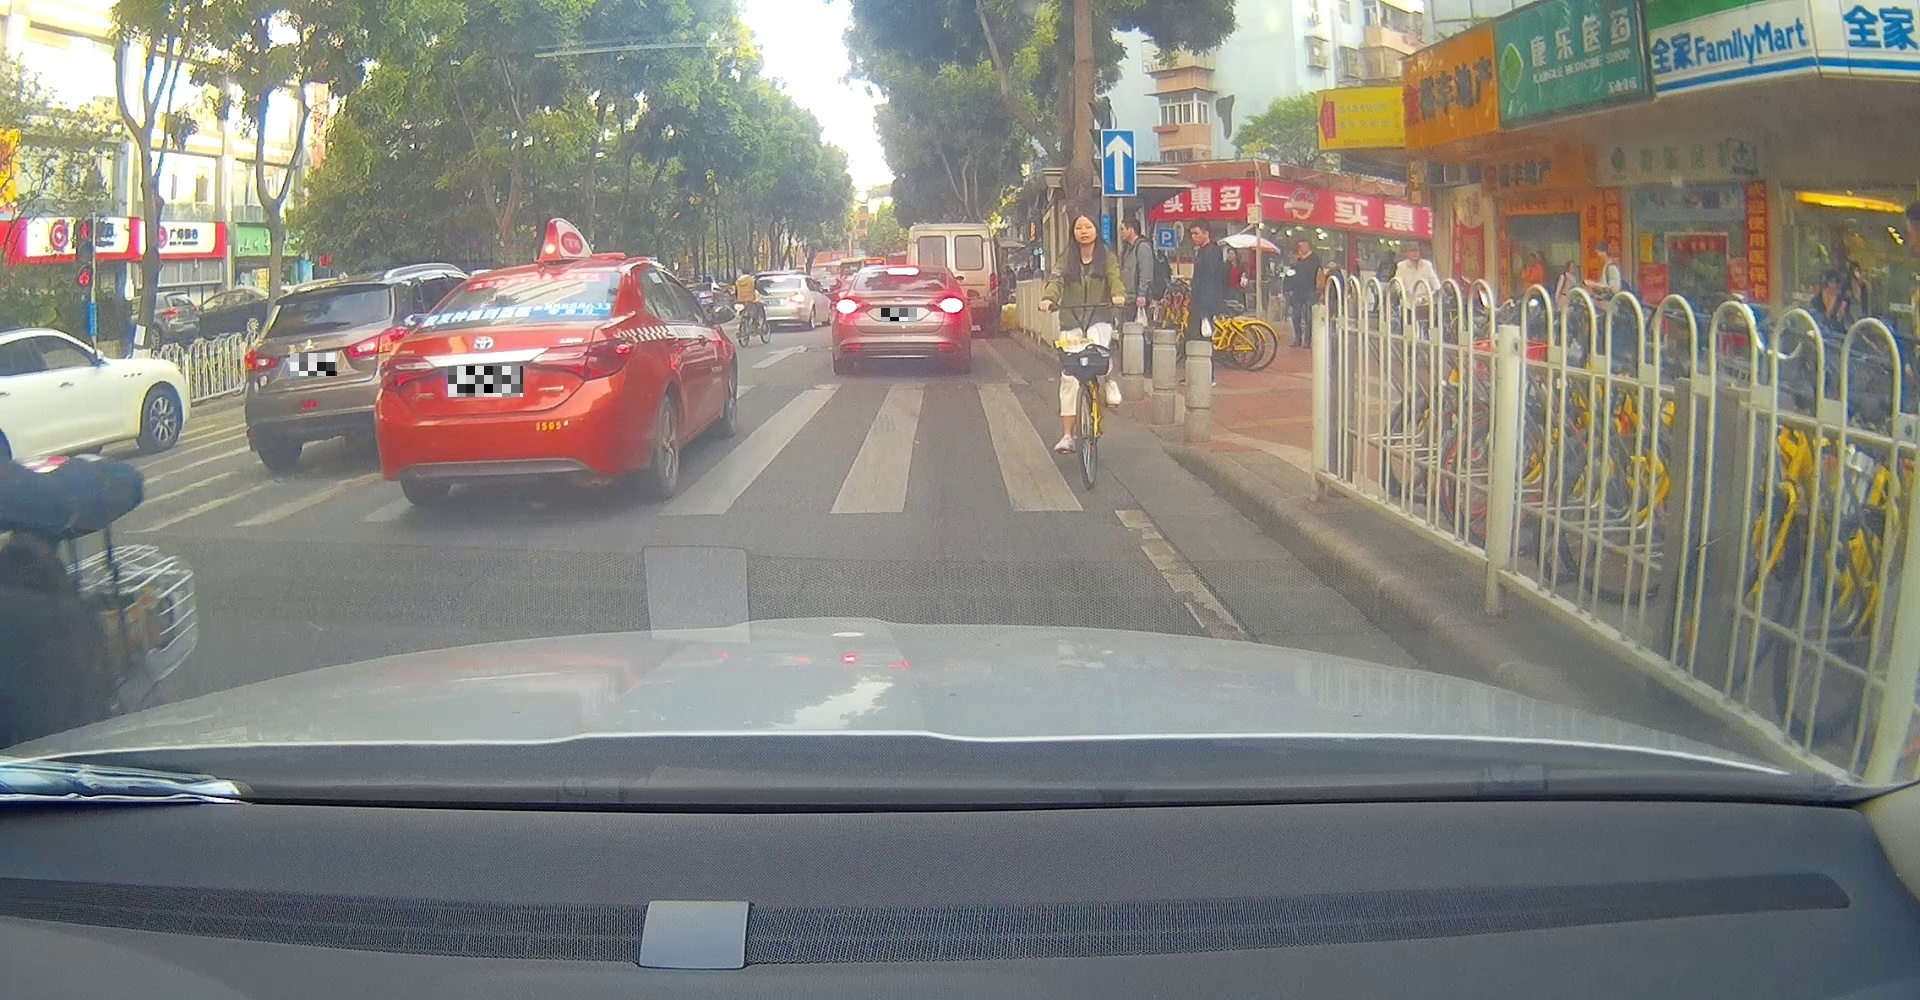L_light: (378, 354, 439, 392), (836, 297, 872, 313)
R_light: (527, 338, 635, 381), (927, 294, 965, 313)
T_light: (489, 317, 528, 326), (886, 266, 919, 275)
day-brake: (830, 265, 971, 374)
day-no: (373, 259, 641, 508)
plate_1: (290, 353, 337, 376)
plate_2: (448, 365, 523, 397)
plate_3: (881, 308, 917, 321)
